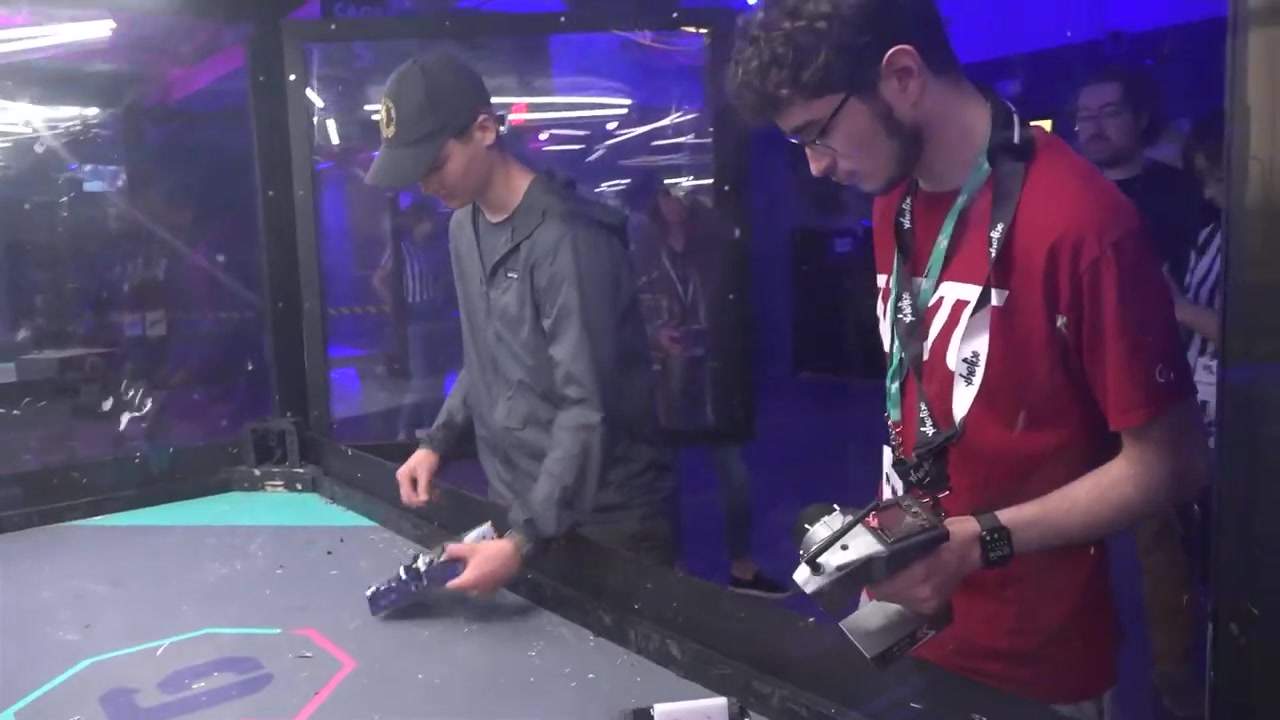combatbot: (366, 520, 502, 619)
